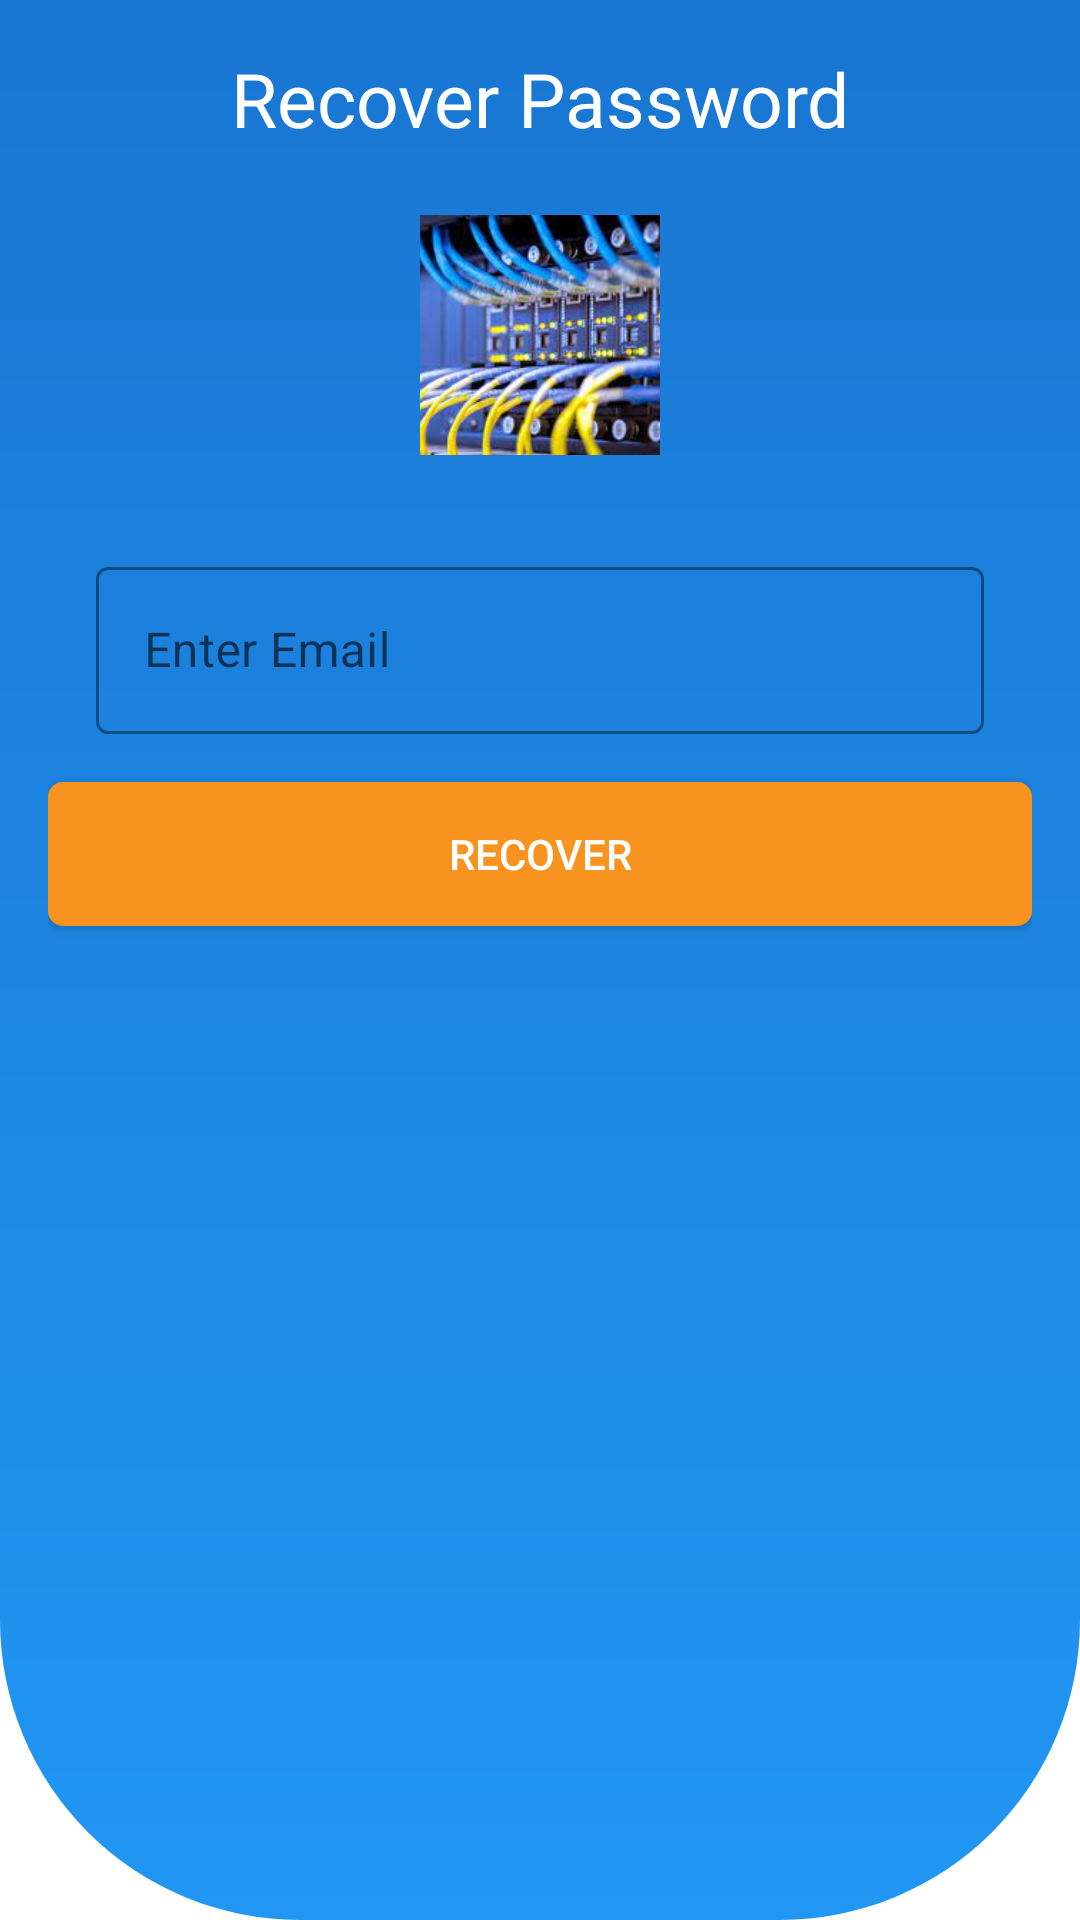

Where icons sit on this 1080 x 1920 app screen, as (x1,y1,x2,y2):
net: (420,215,660,455)
